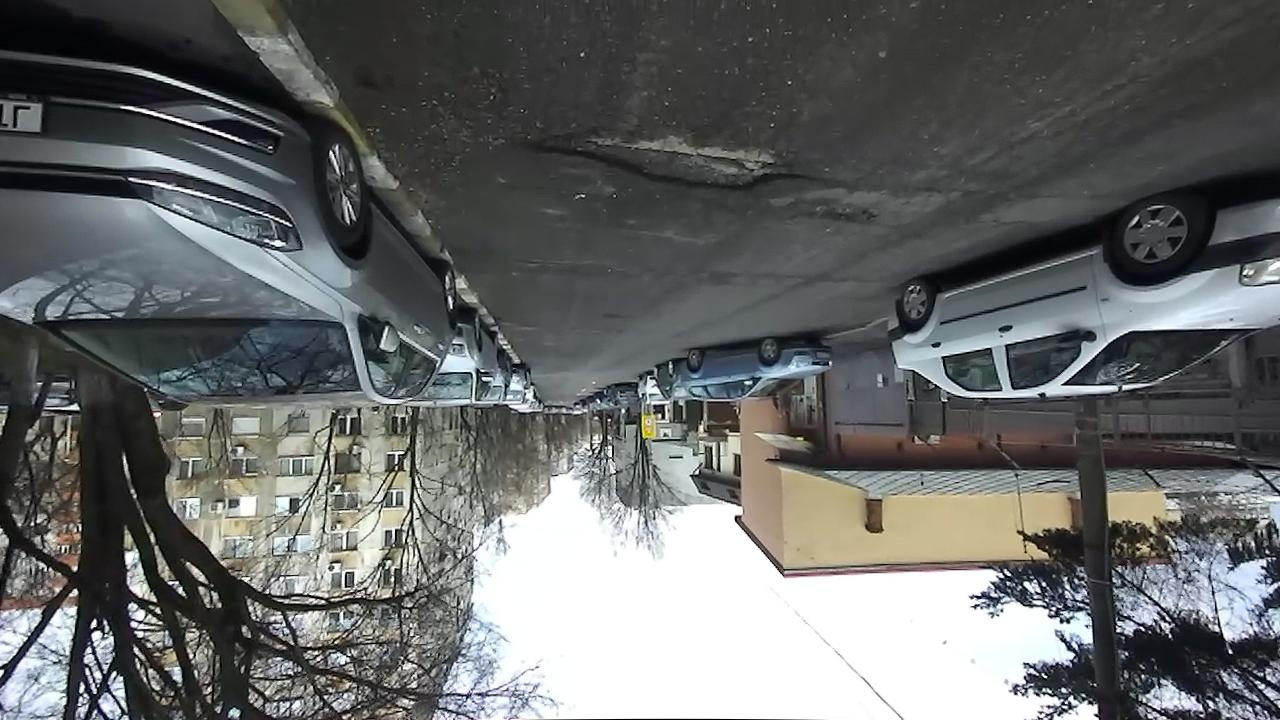pothole: (521, 118, 830, 195), (797, 202, 882, 231)
